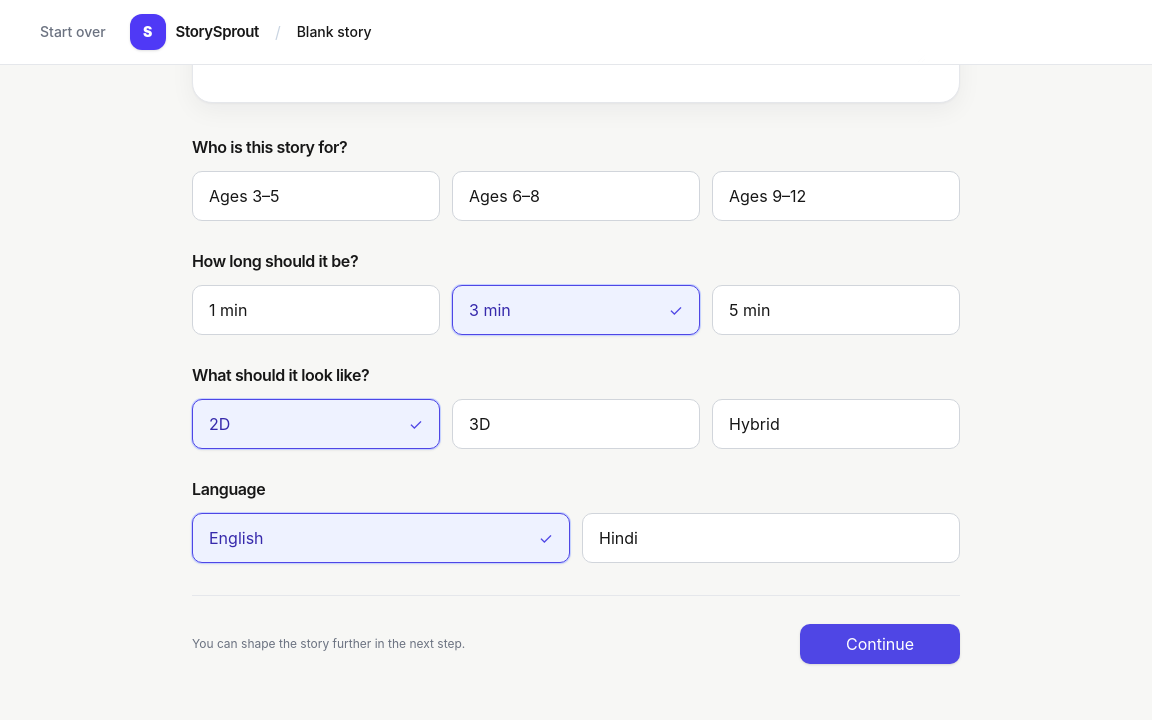
Story Creation UI › renders only approved ages and validates incomplete setup
(page scrolled)
expect the button "Ages 3–5" is shown: met, box [192,171,440,221]
expect the button "Ages 6–8" is shown: met, box [452,171,700,221]
Click the button "Continue".
click(880, 644)  # box [800,624,960,664]
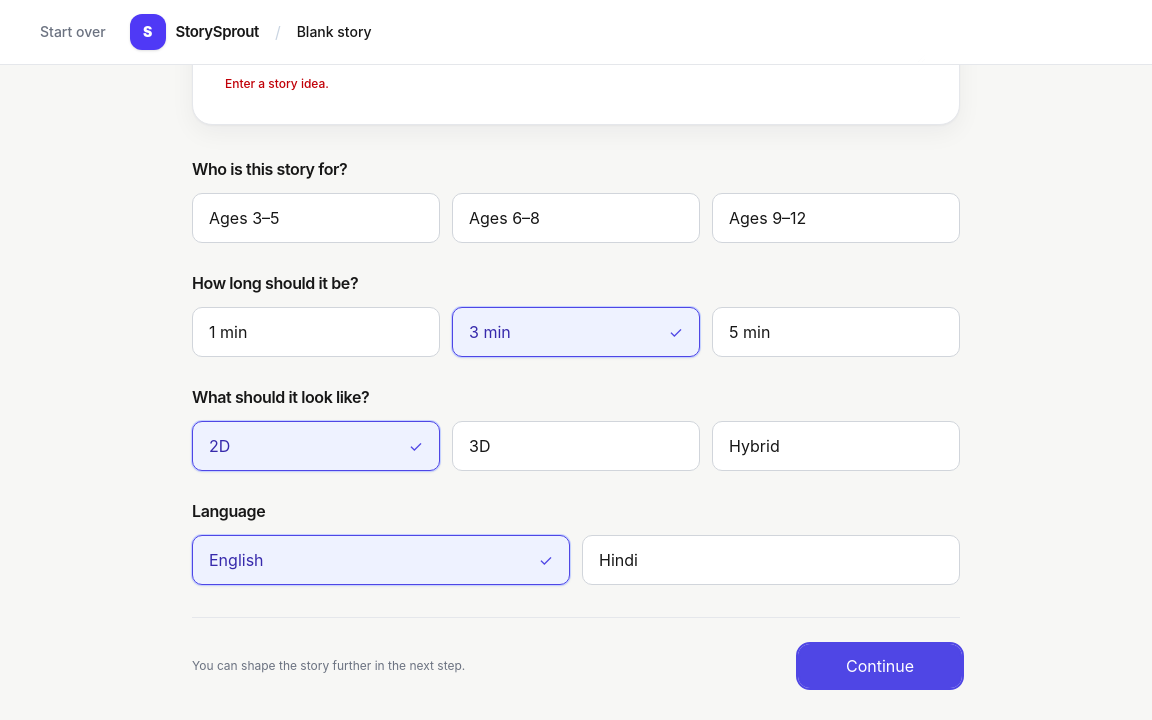
expect the message reads "Enter a story idea.": met, box [225,76,329,91]
